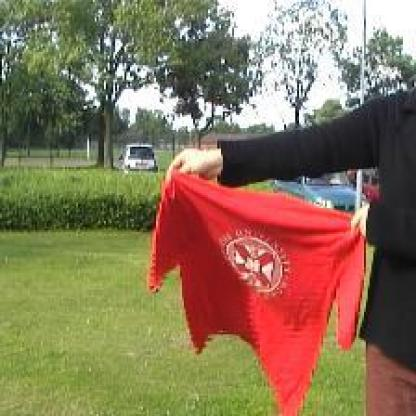other: (132, 153, 367, 412)
